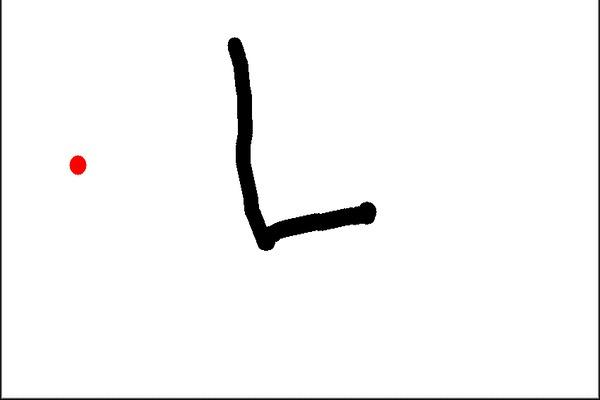L: (216, 30, 380, 253)
